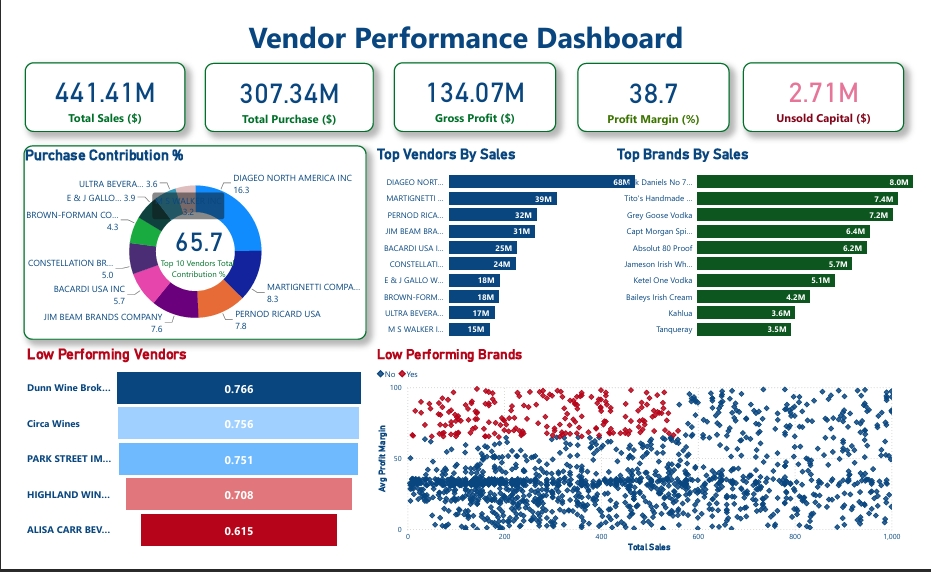

What the dashboard file says about the page in this screenshot:
{"tool":"powerbi","page":{"name":"Page 1","canvas":[1500,900],"ordinal":0},"visuals":[{"type":"card","fields":{"Values":["Sum(vendor_sales_summary.TotalPurchaseDollars)"]},"box":[315.8,82.4,280.9,114.6],"z":0},{"type":"card","fields":{"Values":["Sum(vendor_sales_summary.TotalSalesDollars)"]},"box":[16.8,81,266.9,116],"z":1000},{"type":"card","fields":{"Values":["Sum(vendor_sales_summary.GrossProfit)"]},"box":[630.2,81,269.7,116],"z":2000},{"type":"card","fields":{"Values":["Avg(vendor_sales_summary.ProfitMargin)"]},"box":[934.8,82.4,252.9,114.6],"z":3000},{"type":"card","fields":{"Values":["Sum(vendor_sales_summary.UnsoldCapital)"]},"box":[1210.1,81,268.3,116],"z":4000},{"type":"textbox","box":[0,0,1500,83],"z":5000},{"type":"donutChart","title":"Purchase Contribution % ","fields":{"Category":["PurchaseContribution.VendorName"],"Y":["Sum(PurchaseContribution.PurchaseContribution%)"]},"box":[14.5,219.4,571,322.6],"z":6000},{"type":"card","fields":{"Values":["Sum(PurchaseContribution.PurchaseContribution%)"]},"box":[211.8,266.7,188.2,233.3],"z":7000},{"type":"barChart","title":"Top Vendors By Sales","fields":{"Category":["vendor_sales_summary.VendorName"],"Y":["Sum(vendor_sales_summary.TotalSalesDollars)"]},"box":[597.3,219.2,447.9,332.9],"z":8000},{"type":"barChart","title":"Top Brands By Sales","fields":{"Category":["vendor_sales_summary.Description"],"Y":["Sum(vendor_sales_summary.TotalSalesDollars)"]},"box":[995.9,219.2,504.1,332.9],"z":9000},{"type":"funnel","title":"Low Performing Vendors","fields":{"Category":["LowTurnoverVendor.VendorName"],"Y":["Avg(LowTurnoverVendor.AvgStockTurnOver)"]},"box":[16.1,551.6,569.4,348.4],"z":10000},{"type":"scatterChart","title":"Low Performing Brands","fields":{"X":["Sum(BrandPerformance.TotalSales)"],"Y":["Sum(BrandPerformance.AvgProfitMargin)"],"Series":["BrandPerformance.TargetBrand"],"Category":["BrandPerformance.Description"]},"box":[596.8,551.6,880.6,348.4],"z":11000}]}

Visuals, with their boxes in screenshot pixels (x1, y1, x2, y2), scaled from the page's 1500x900 canvas onto the 931x572 screenshot:
card - Sum(vendor_sales_summary.TotalPurchaseDollars): 196/52/370/125
card - Sum(vendor_sales_summary.TotalSalesDollars): 10/51/176/125
card - Sum(vendor_sales_summary.GrossProfit): 391/51/559/125
card - Avg(vendor_sales_summary.ProfitMargin): 580/52/737/125
card - Sum(vendor_sales_summary.UnsoldCapital): 751/51/918/125
textbox: 0/0/930/53
"Purchase Contribution % " donutChart: 9/139/363/344
card - Sum(PurchaseContribution.PurchaseContribution%): 131/170/248/318
"Top Vendors By Sales" barChart: 371/139/649/351
"Top Brands By Sales" barChart: 618/139/930/351
"Low Performing Vendors" funnel: 10/351/363/571
"Low Performing Brands" scatterChart: 370/351/917/571
